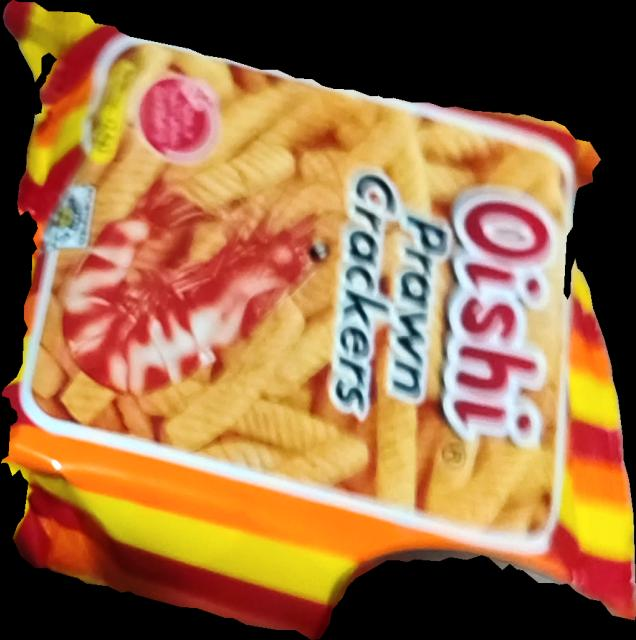oishi crackers: (1, 0, 636, 640)
